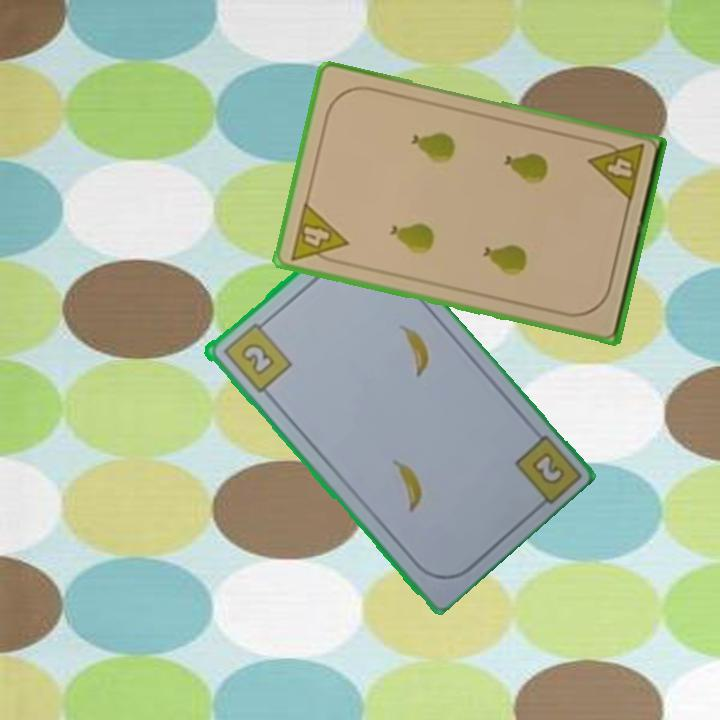2b: (219, 316, 294, 395), (527, 448, 567, 488)
4p: (286, 198, 351, 269), (585, 136, 647, 205)
